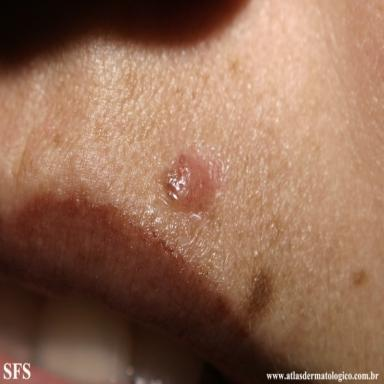basal-cell-carcinoma: (163, 154, 221, 213)
